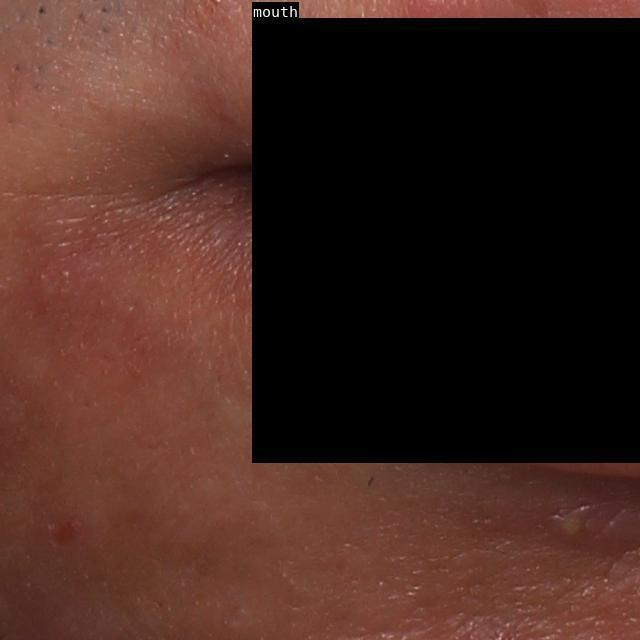pustule: (547, 495, 600, 545)
